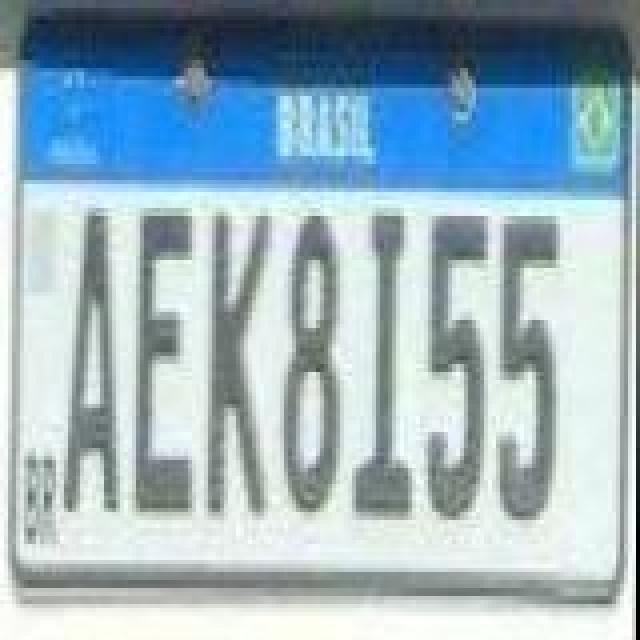5: (494, 212, 558, 524), (428, 212, 488, 524)
8: (284, 212, 344, 516)
A: (66, 204, 122, 516)
E: (136, 212, 196, 516)
I: (356, 208, 416, 520)
K: (206, 208, 270, 520)
